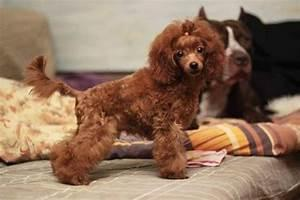dog: (22, 15, 222, 185), (196, 5, 275, 123)
